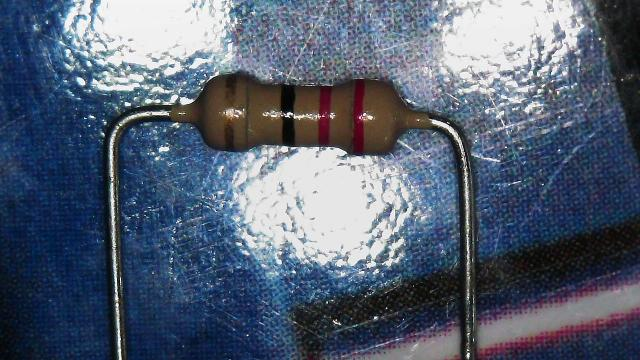black: (282, 83, 294, 145)
gold: (226, 74, 237, 146)
orange: (320, 84, 330, 145)
red: (352, 78, 364, 153)
resistor: (170, 57, 437, 169)
